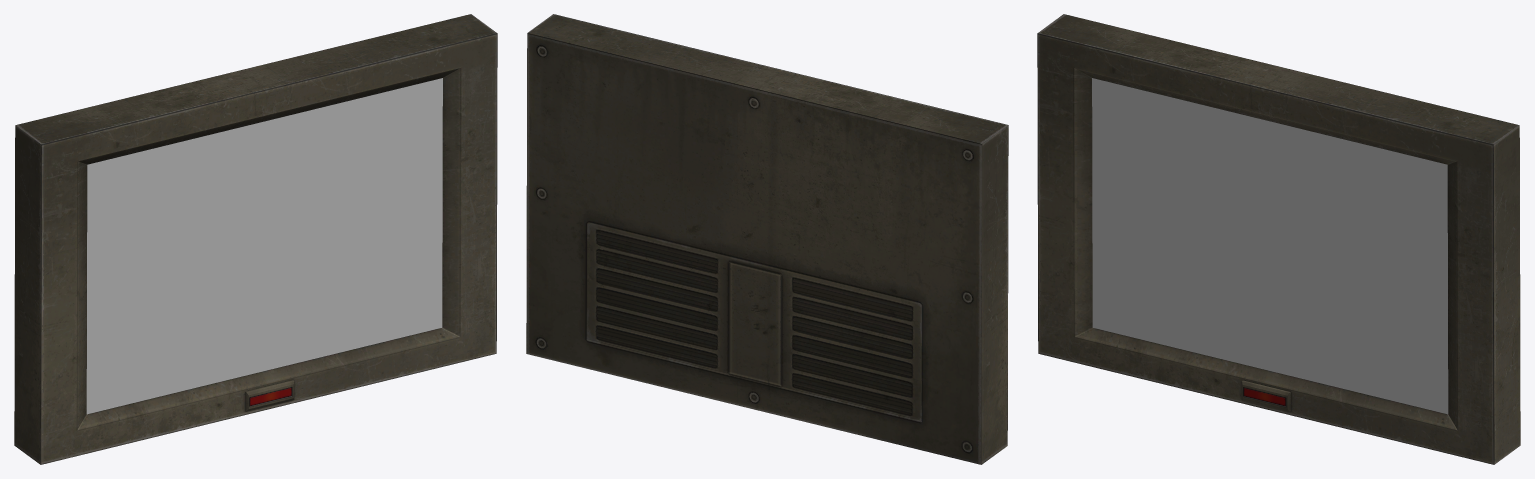
File: computer_terminal_slide_flesher.DAE
3 views of the same model, side by side, from view 1: azimuth 30°, elevation 25°; view 2: azimuth 150°, elevation 25°; view 3: azimuth 330°, elevation 25° (orthographic).
Parts seen in each view (by area): view 1: screen, monitor; view 2: monitor; view 3: screen, monitor.
Part boxes in pixels (x1,y1,x2,y2): screen: [86, 78, 442, 414]; monitor: [14, 14, 497, 464]; monitor: [526, 14, 1008, 464]; screen: [1092, 78, 1448, 414]; monitor: [1037, 14, 1520, 464].
Bounding box in the file's own units: 0.4 × 0.269 × 0.0427.
